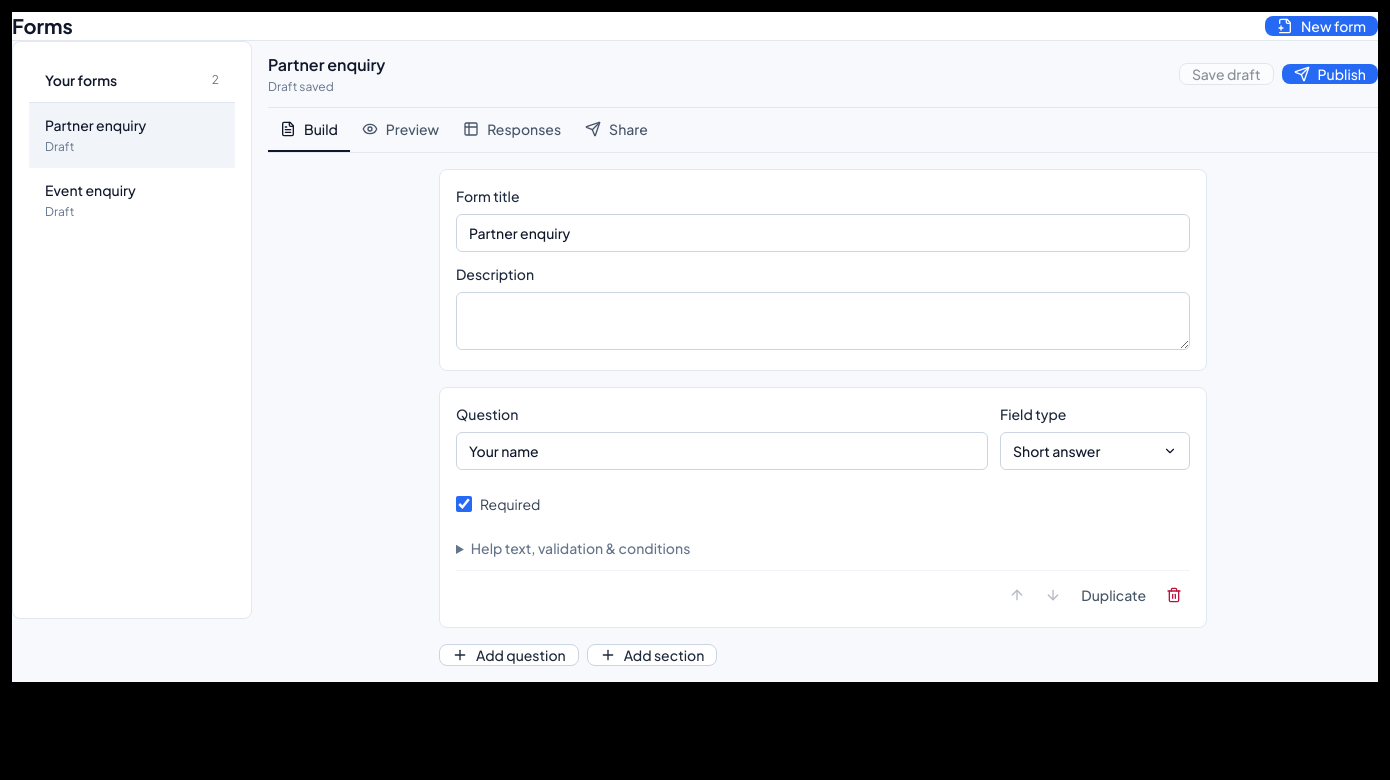
Scenario: simplified form builder › shows the same Flown branding and website in the public-form preview
Click the tab "Preview" at (400, 130), box [350,108,451,152]
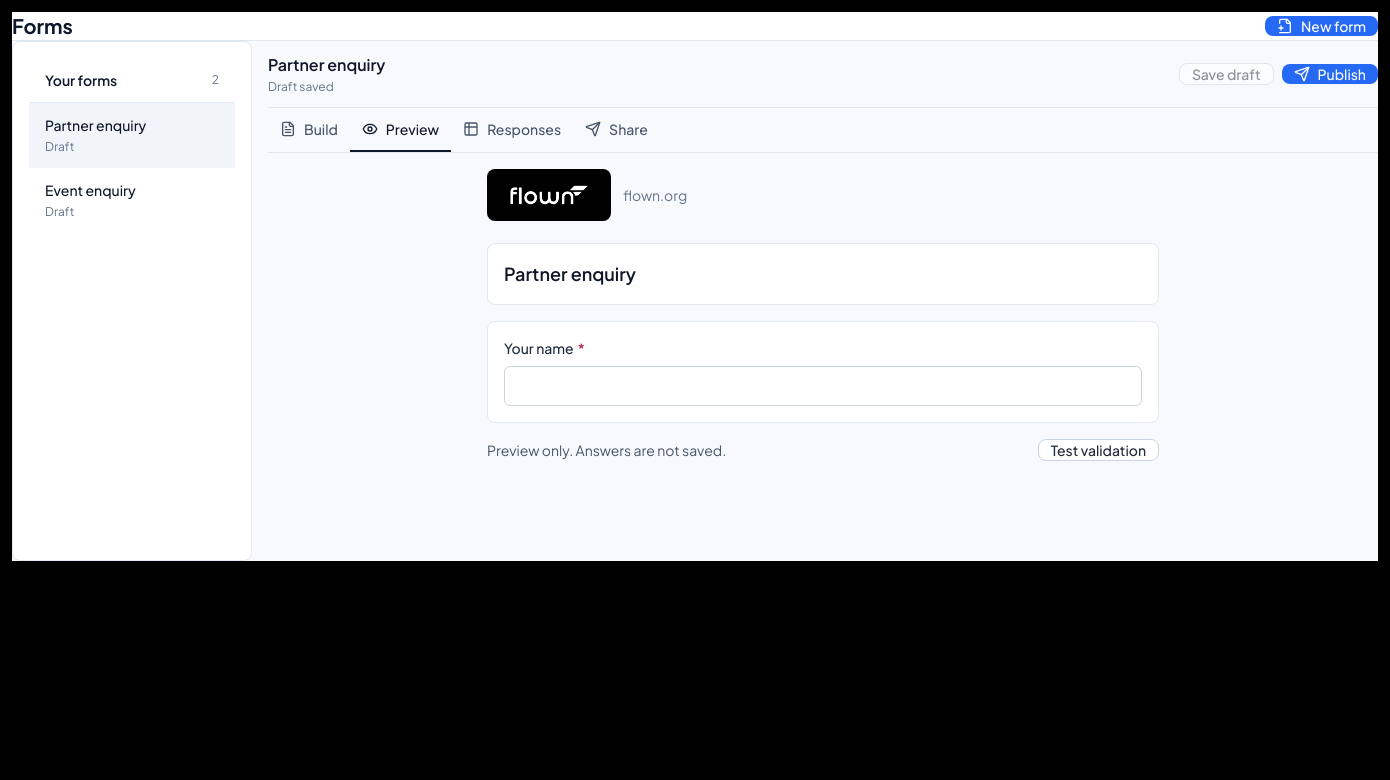
Expected: the picture named "Flown" is shown, [499,177,599,213]
Expected: the link to "https://flown.org" is shown, [487,169,687,221]
Expected: the text "Your name" is shown, [504,339,574,357]
